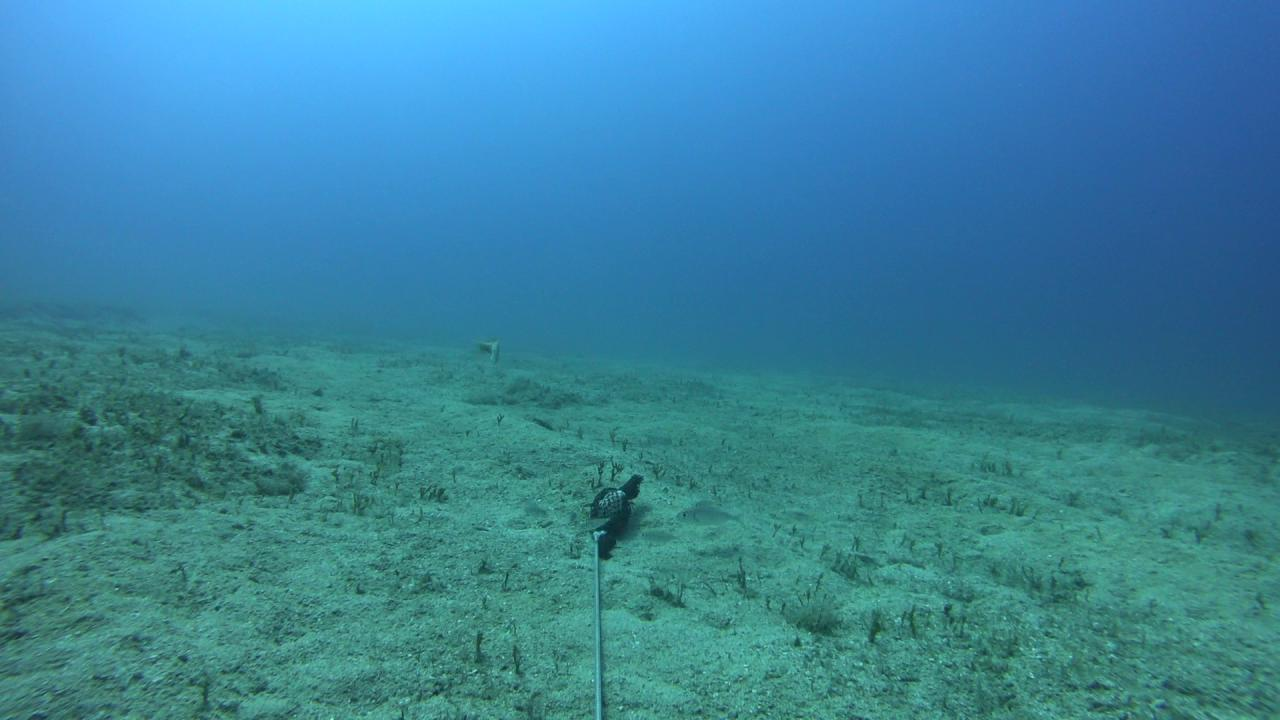pagellus: (673, 506, 745, 529), (636, 526, 681, 544), (584, 516, 612, 531)
